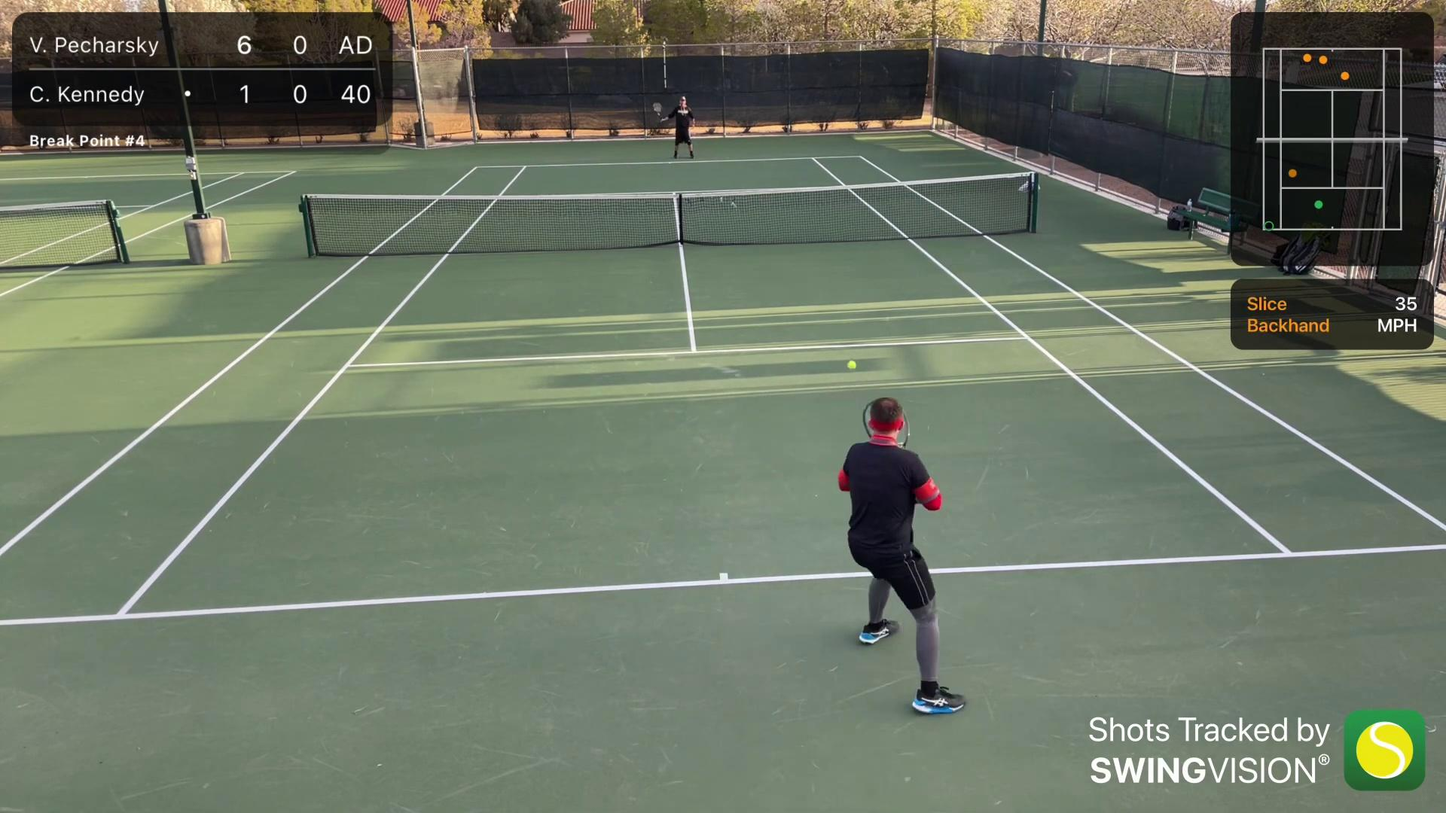ball: (846, 359, 857, 371)
